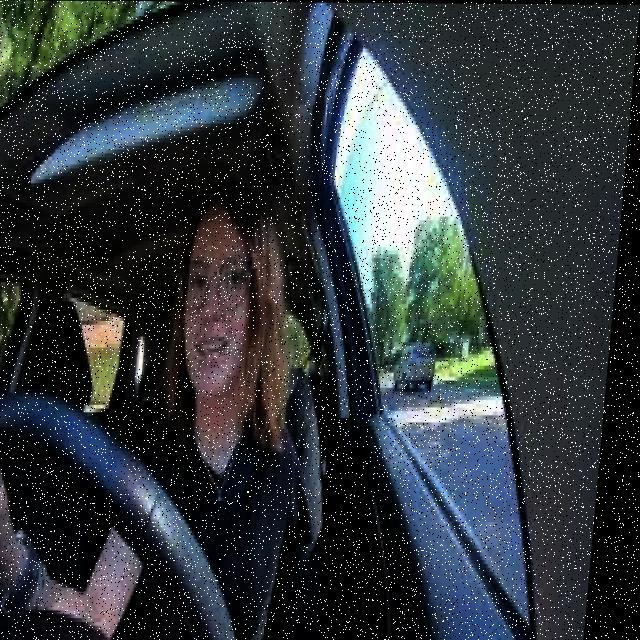seatbelt: (130, 356, 334, 574)
